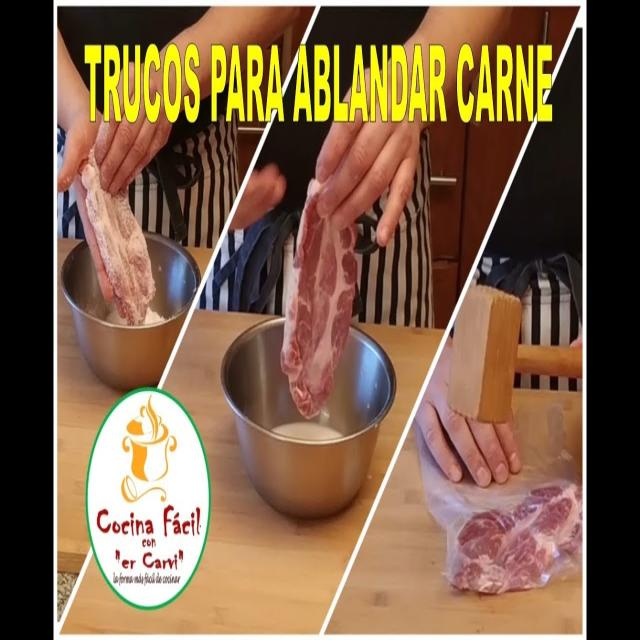carne de res: (282, 174, 364, 428)
